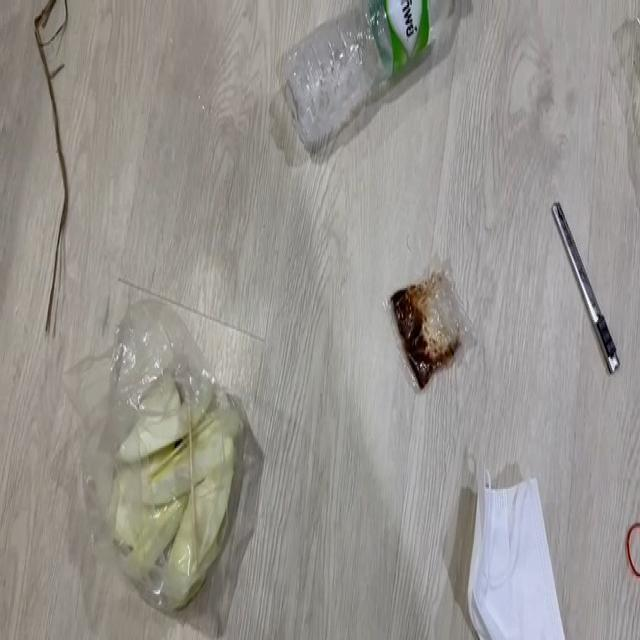Anorganik: (276, 0, 460, 151), (544, 196, 640, 376), (624, 520, 640, 580)
B3: (101, 366, 262, 615), (446, 431, 581, 640), (384, 261, 486, 394), (30, 0, 71, 322)
